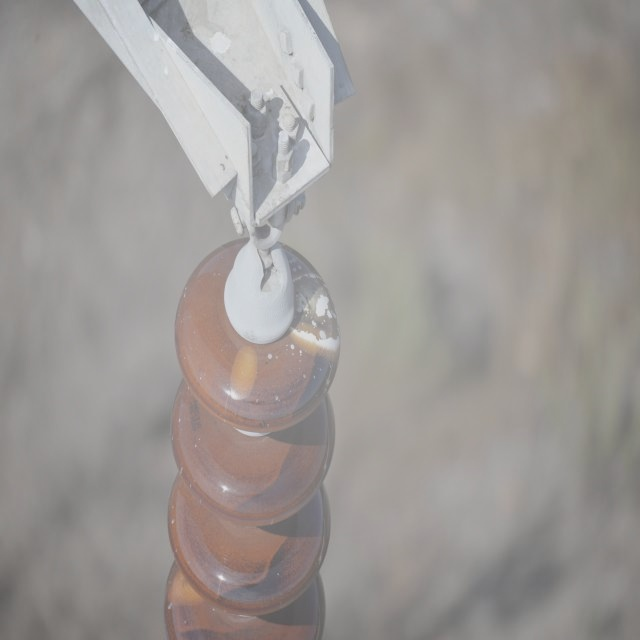insulator: (164, 234, 340, 640)
